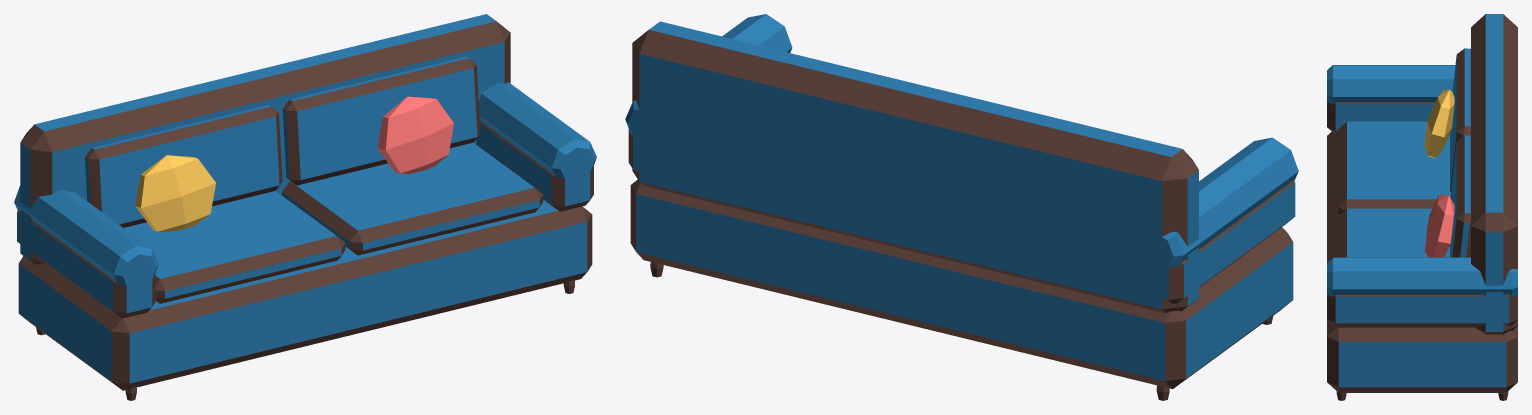
File: sofa.glb
The picture shows the model from 3 angles, left to right: view 1: azimuth 30°, elevation 25°; view 2: azimuth 150°, elevation 25°; view 3: azimuth 270°, elevation 25°; orthographic projection. The views are drawn at different scales.
Visible parts, largest first — view 1: sofa-m; view 2: sofa-m; view 3: sofa-m.
Part boxes in pixels (box(x1,y1,x2,y2)): sofa-m: box(14, 14, 596, 400); sofa-m: box(625, 14, 1298, 400); sofa-m: box(1327, 14, 1517, 400).
Size of the model in its own units: 3.42 by 1.42 by 1.3.
